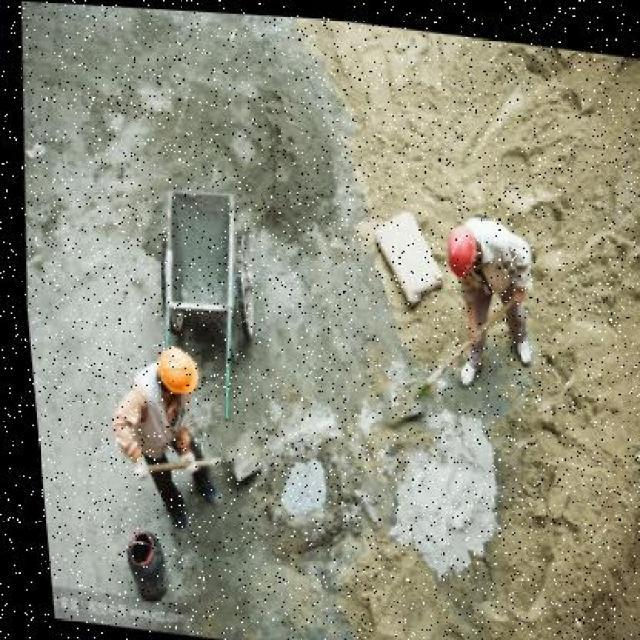helmet: (140, 339, 196, 409), (434, 212, 478, 278)
